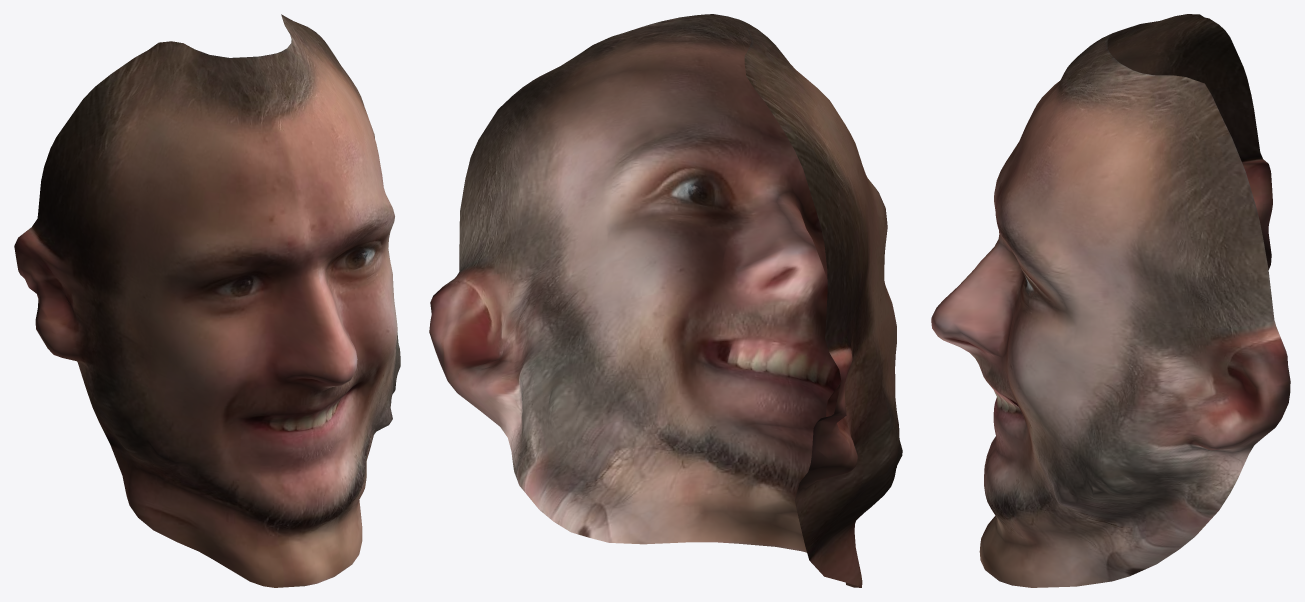
Rendered from headScanLow.glb.
3 renders of one model, left to right at view 1: azimuth 30°, elevation 25°; view 2: azimuth 150°, elevation 25°; view 3: azimuth 270°, elevation 25°, orthographic. The views are drawn at different scales.
Visible parts, largest first — view 1: Node; view 2: Node; view 3: Node.
Part boxes in pixels (bbox=[...]): Node: bbox=[14, 14, 400, 587]; Node: bbox=[429, 14, 902, 587]; Node: bbox=[931, 14, 1290, 587].
Bounding box in the file's own units: 181 × 252 × 157.
Materials: 1 (1 with a texture image).
